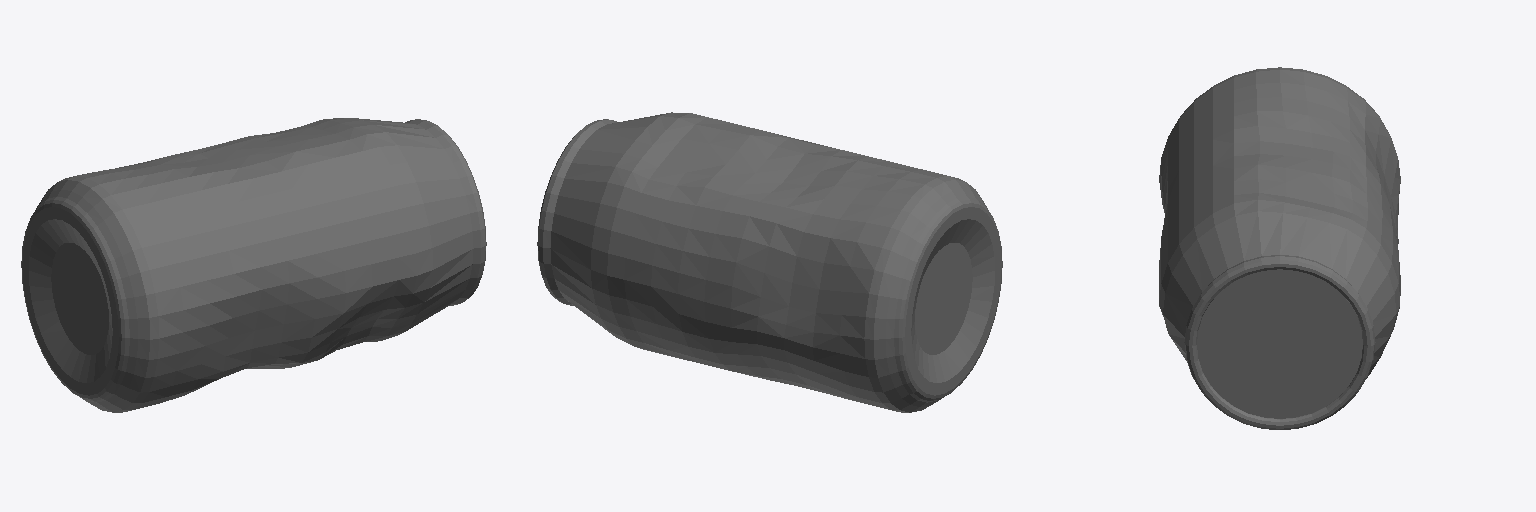
The picture shows the model from 3 angles: view 1: azimuth 30°, elevation 25°; view 2: azimuth 150°, elevation 25°; view 3: azimuth 270°, elevation 25°; orthographic projection.
Parts seen in each view (by area): view 1: g Group10768_meshId0_name; view 2: g Group10768_meshId0_name; view 3: g Group10768_meshId0_name.
Boxes of the visible parts, <box> form: g Group10768_meshId0_name: <box>21,118,486,412</box>; g Group10768_meshId0_name: <box>537,112,1002,412</box>; g Group10768_meshId0_name: <box>1159,67,1400,429</box>.
Size of the model in its own units: 2.14 by 1.21 by 1.21.